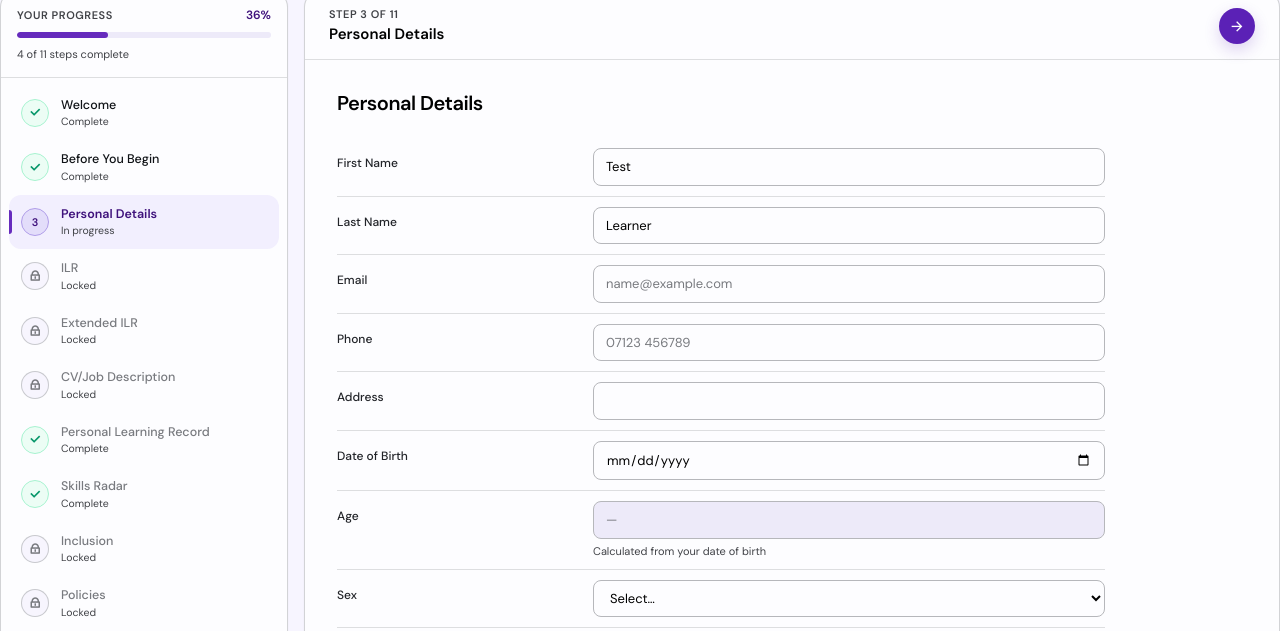
learner step gating › blocks the tab-bar arrow on an unfinished step
Click the button named "Next step".
click(1237, 26)  # box [1219, 8, 1255, 44]
(page scrolled)
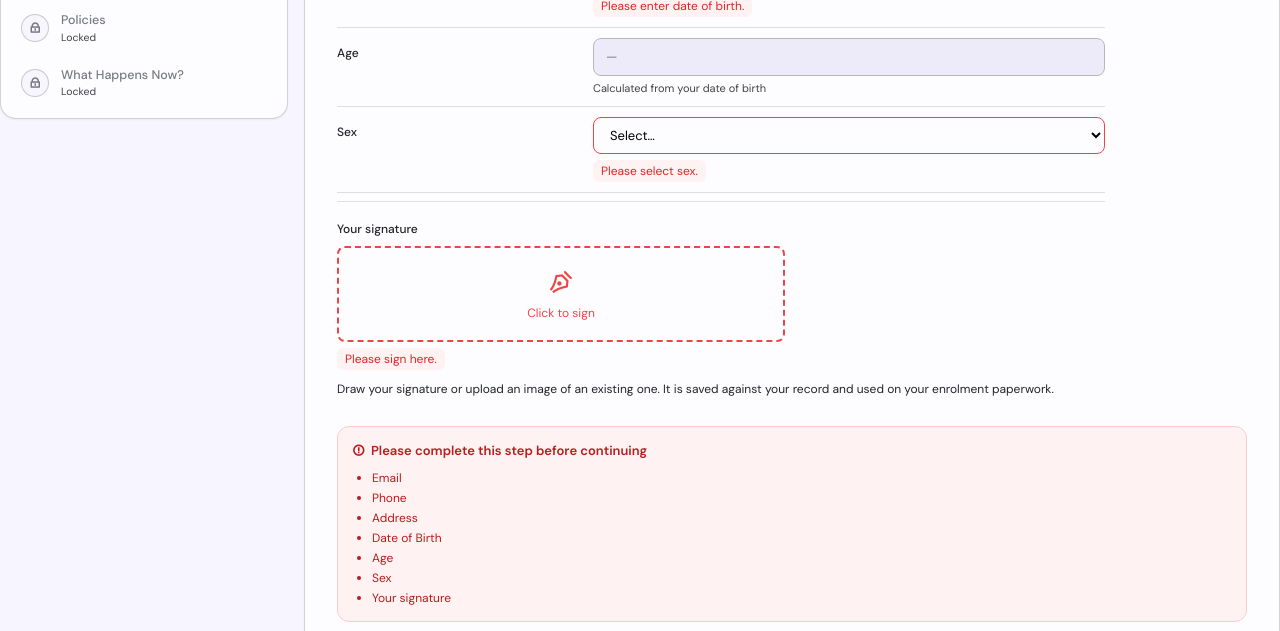
Expected: the text "Please complete this step before continuing" is shown, [352, 442, 647, 459]
